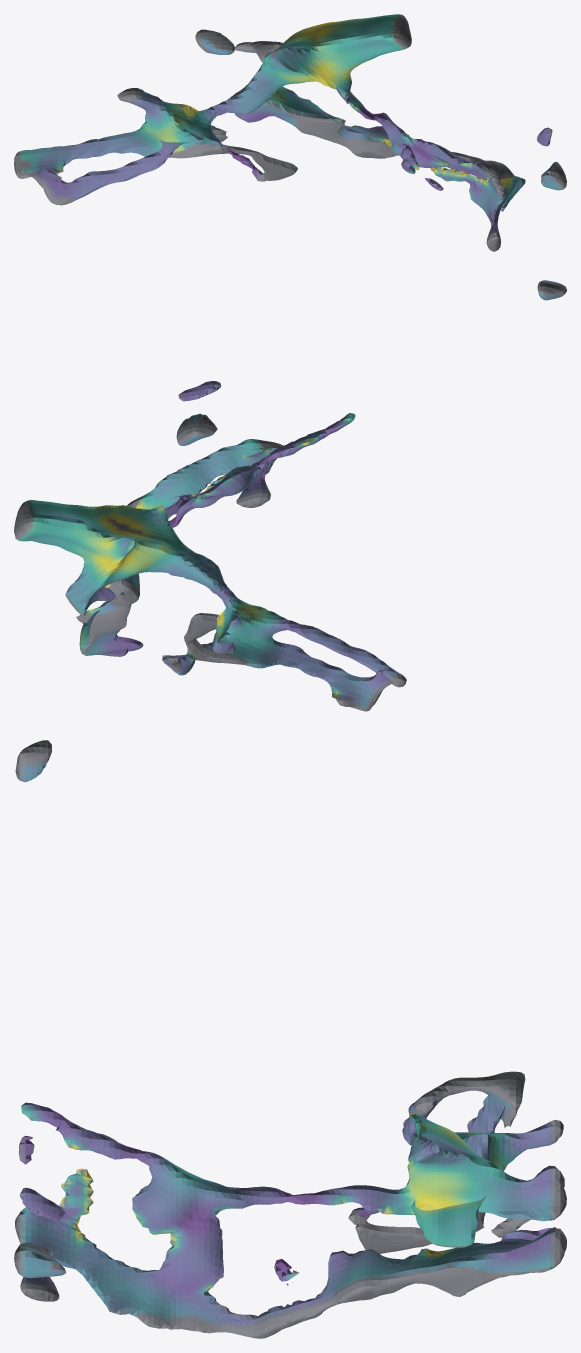
File: crop1035.glb
The picture shows the model from 3 angles, top to bottom: view 1: azimuth 30°, elevation 25°; view 2: azimuth 150°, elevation 25°; view 3: azimuth 270°, elevation 25°; orthographic projection. The views are drawn at different scales.
Visible parts, largest first — view 1: geometry_0; view 2: geometry_0; view 3: geometry_0.
Part boxes in pixels (x1=…): geometry_0: x1=14, y1=14, x2=566, y2=251; geometry_0: x1=14, y1=280, x2=566, y2=711; geometry_0: x1=14, y1=740, x2=566, y2=1338.
Size of the model in its own units: 798 by 595 by 794.
